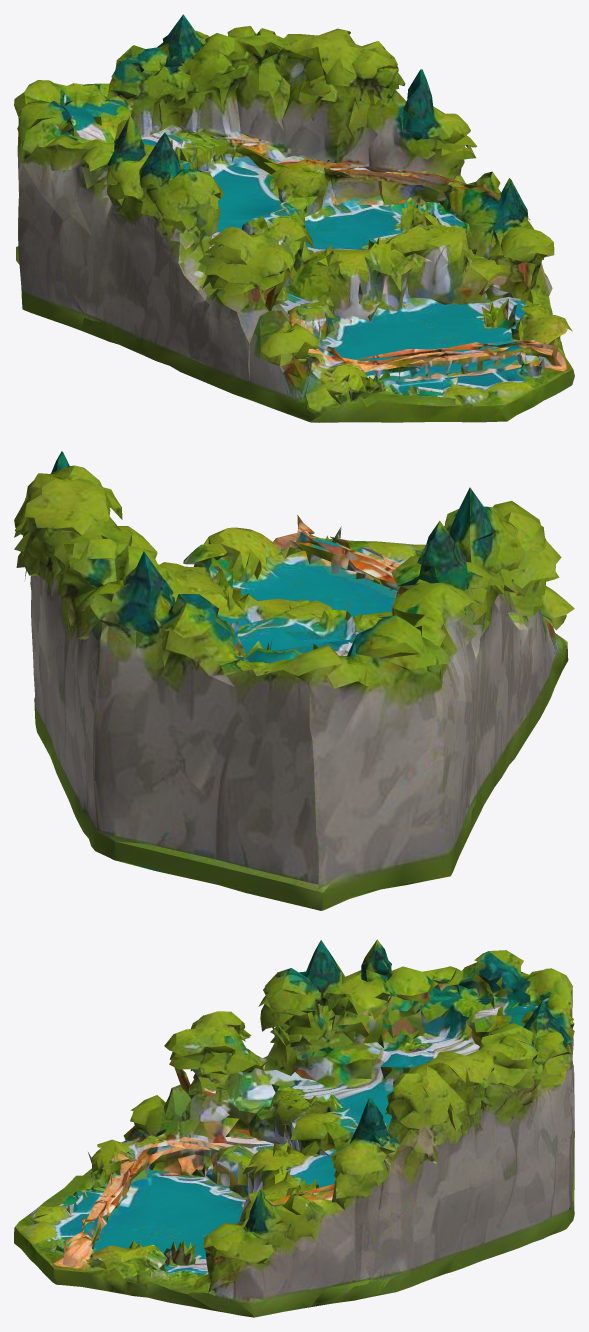
File: plitvice-lakes.glb
3 renders of one model, top to bottom at view 1: azimuth 30°, elevation 25°; view 2: azimuth 150°, elevation 25°; view 3: azimuth 270°, elevation 25°, orthographic. The views are drawn at different scales.
Parts seen in each view (by area): view 1: logan-textured.obj; view 2: logan-textured.obj; view 3: logan-textured.obj.
Boxes of the visible parts, <box> form: logan-textured.obj: <box>14,14,574,422</box>; logan-textured.obj: <box>14,451,574,910</box>; logan-textured.obj: <box>14,939,574,1317</box>.
Bounding box in the file's own units: 0.8201 × 0.4289 × 1.
Materials: 1 (1 with a texture image).
